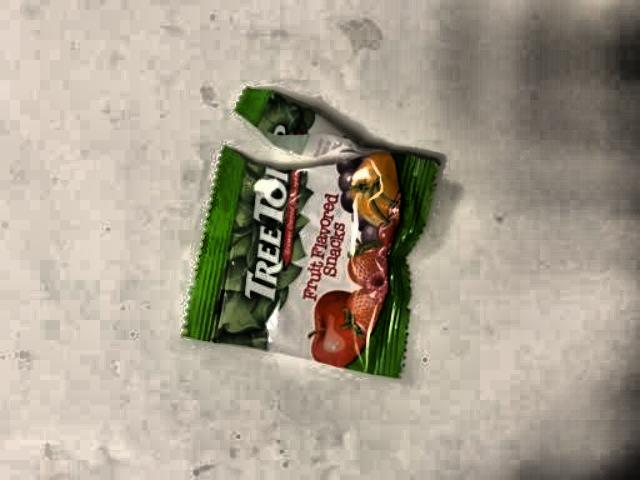Plastic: (173, 68, 447, 388)
